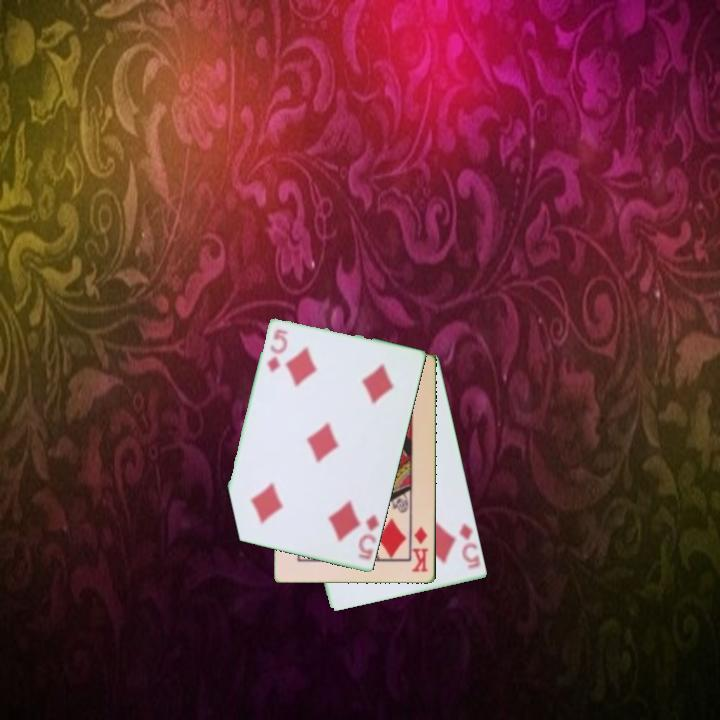5d: (456, 520, 484, 572), (355, 511, 382, 562), (264, 326, 291, 376)
Kd: (409, 524, 431, 575)
